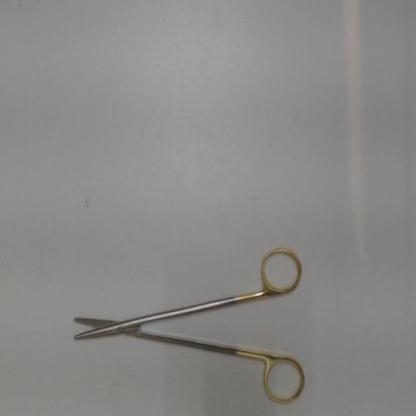7 Metzenbaum Scissors: (67, 240, 310, 412)
